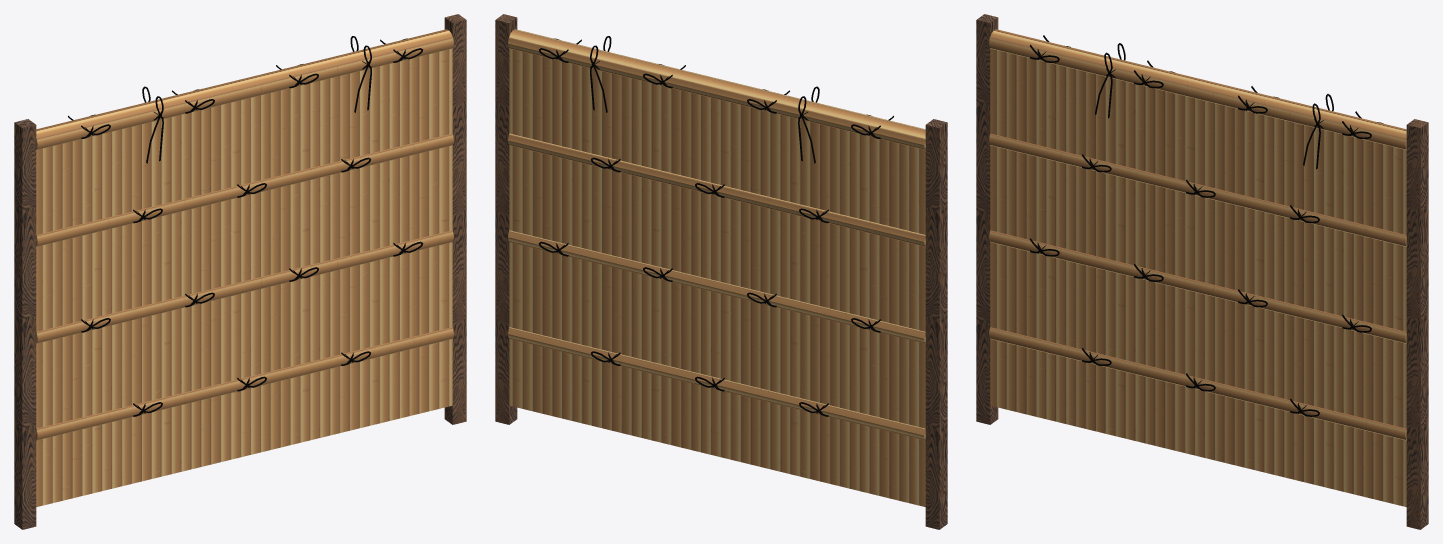
Rendered from 1920-1500_ever1_kenninji-madake.fbx.
The picture shows the model from 3 angles, left to right: view 1: azimuth 30°, elevation 25°; view 2: azimuth 150°, elevation 25°; view 3: azimuth 330°, elevation 25°; orthographic projection.
Visible parts, largest first — view 1: 1920-1500_ever1madake; view 2: 1920-1500_ever1madake; view 3: 1920-1500_ever1madake.
Part boxes in pixels (x1,y1,x2,y2): 1920-1500_ever1madake: (14,14,466,529); 1920-1500_ever1madake: (495,14,947,529); 1920-1500_ever1madake: (976,14,1428,529).
Size of the model in its own units: 192 by 167 by 10.3.
Materials: 5 (4 with a texture image).
